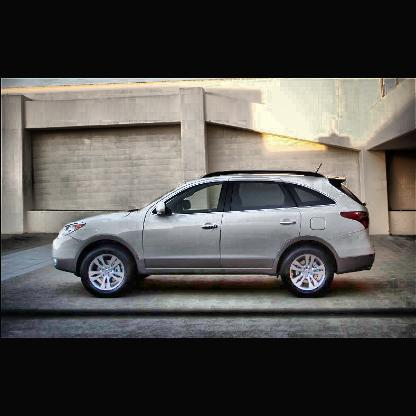Hyundai Veracruz SUV 2012: (50, 164, 378, 299)
